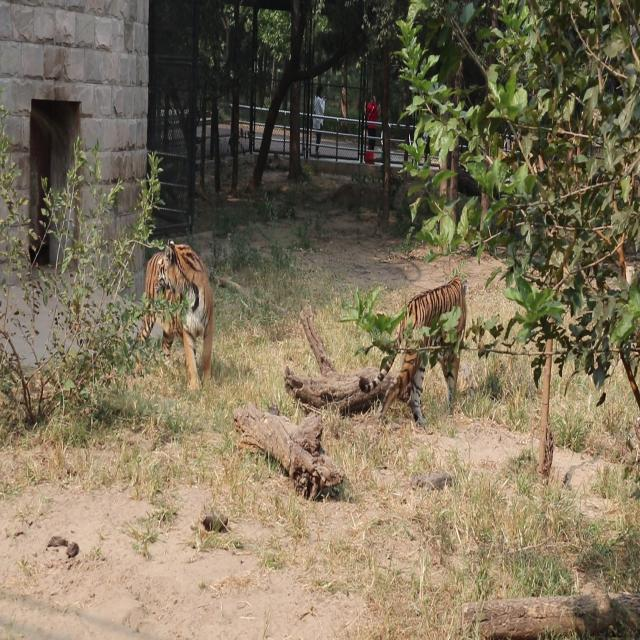Tiger: (354, 254, 502, 436), (136, 232, 229, 388)
